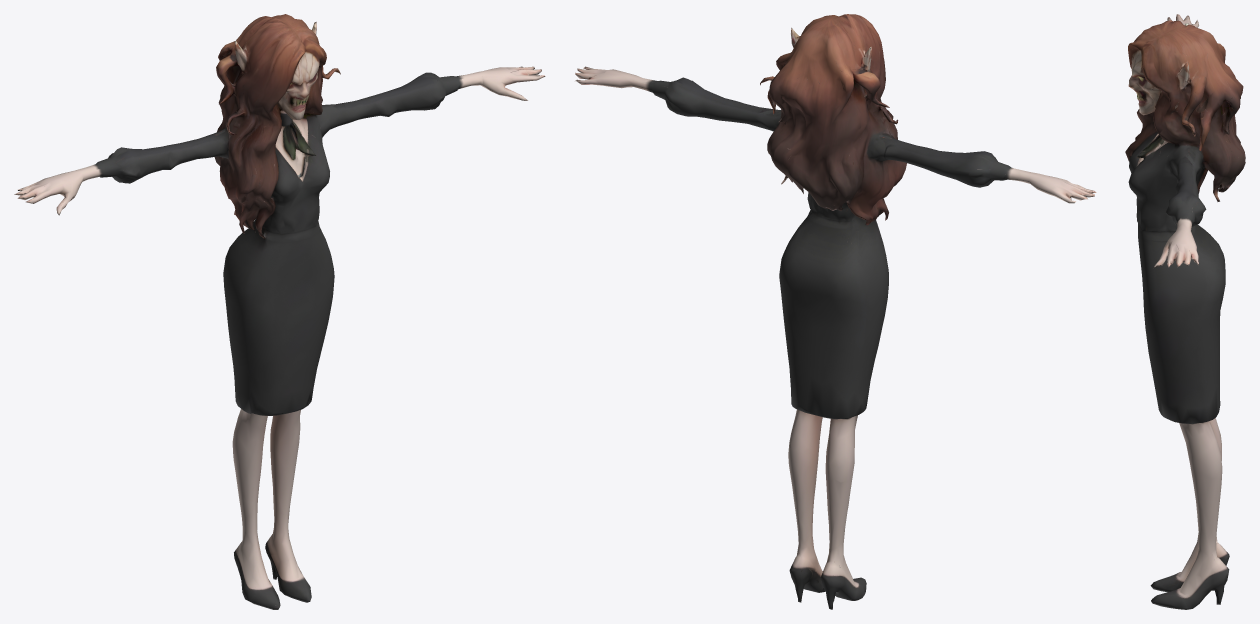
File: CalisanKadin1CanavarTPoz.fbx
3 views of the same model, side by side, from view 1: azimuth 30°, elevation 25°; view 2: azimuth 150°, elevation 25°; view 3: azimuth 270°, elevation 25° (orthographic).
Visible parts, largest first — view 1: Mesh_0; view 2: Mesh_0; view 3: Mesh_0.
Boxes of the visible parts, box(x1,y1,x2,y2) form: Mesh_0: box(14, 14, 545, 609); Mesh_0: box(575, 14, 1096, 609); Mesh_0: box(1125, 14, 1245, 609).
Bounding box in the file's own units: 180 × 191 × 36.47.
Materials: 1 (1 with a texture image).
